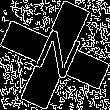N_SW: (26, 24, 84, 86)
